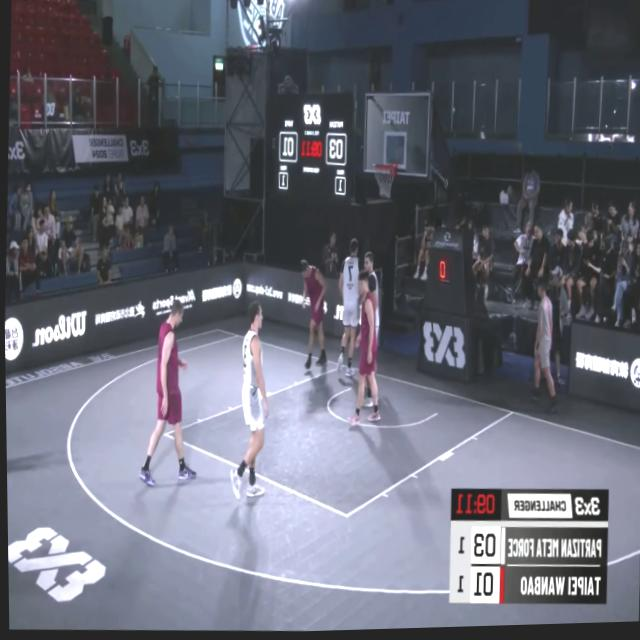hoop: (371, 161, 397, 203)
player: (132, 295, 202, 496), (225, 304, 270, 507), (344, 269, 383, 429), (350, 249, 380, 411), (333, 241, 363, 384), (297, 259, 328, 375)
